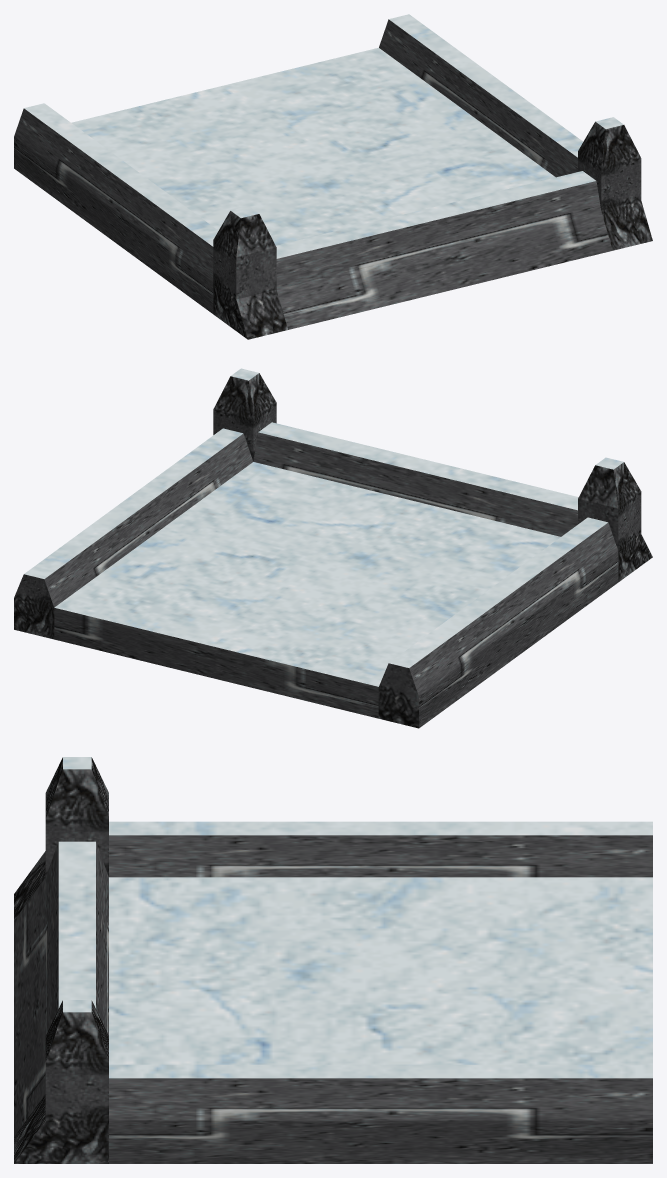
The picture shows the model from 3 angles, top to bottom: view 1: azimuth 30°, elevation 25°; view 2: azimuth 150°, elevation 25°; view 3: azimuth 270°, elevation 25°; orthographic projection. The views are drawn at different scales.
Parts seen in each view (by area): view 1: a100; view 2: a100; view 3: a100.
Part boxes in pixels (x1,y1,x2,y2): a100: (14, 14, 652, 339); a100: (14, 368, 652, 728); a100: (14, 757, 652, 1163).
Bounding box in the file's own units: 1015 × 253 × 1016.
